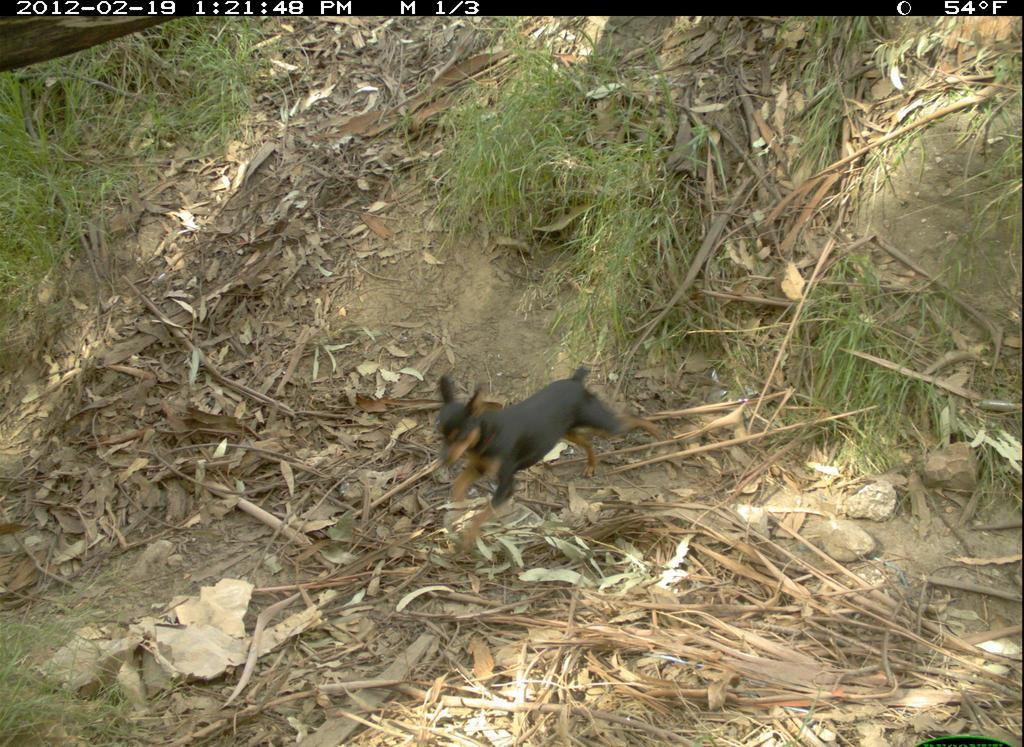dog: (422, 363, 683, 555)
